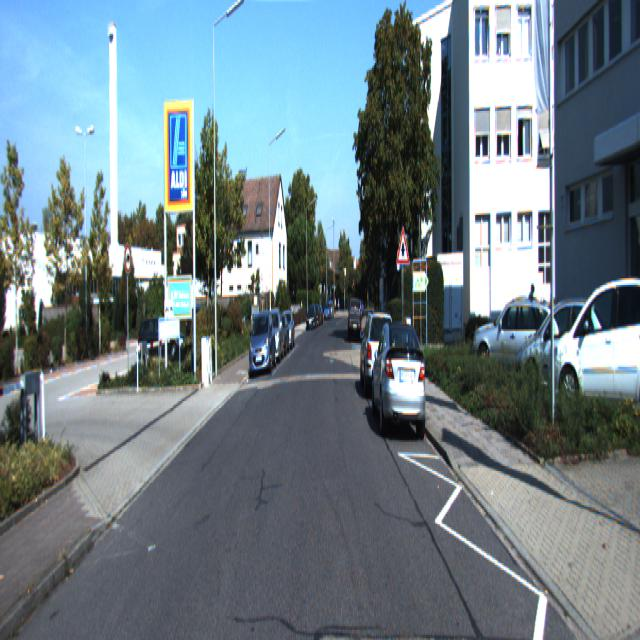Car: (550, 274, 640, 431), (511, 291, 616, 412), (471, 292, 562, 387), (369, 317, 429, 442), (359, 310, 396, 404), (136, 317, 187, 371), (248, 311, 276, 377), (260, 308, 284, 366), (348, 296, 362, 342)
